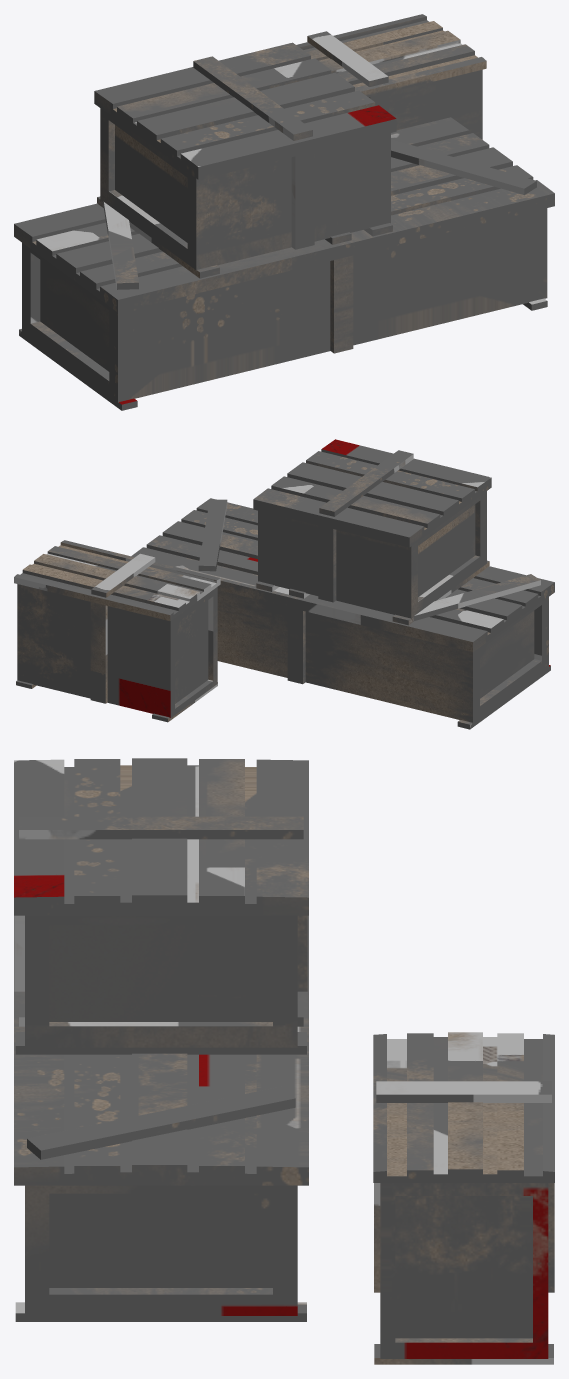
Rendered from ящик02.fbx.
3 views of the same model, one above another, from view 1: azimuth 30°, elevation 25°; view 2: azimuth 150°, elevation 25°; view 3: azimuth 270°, elevation 25° (orthographic). The views are drawn at different scales.
Parts seen in each view (by area): view 1: Cube.012, Cube.003, Cube.015; view 2: Cube.012, Cube.003, Cube.015; view 3: Cube.003, Cube.012, Cube.015.
Part boxes in pixels (x1=…): Cube.012: x1=14, y1=117, x2=554, y2=410; Cube.003: x1=94, y1=42, x2=396, y2=278; Cube.015: x1=296, y1=14, x2=486, y2=139; Cube.012: x1=131, y1=498, x2=554, y2=729; Cube.003: x1=253, y1=439, x2=491, y2=625; Cube.015: x1=14, y1=540, x2=220, y2=722; Cube.003: x1=14, y1=758, x2=308, y2=1054; Cube.012: x1=14, y1=915, x2=308, y2=1321; Cube.015: x1=373, y1=1032, x2=554, y2=1364.
Bounding box in the file's own units: 718 × 323 × 479.
